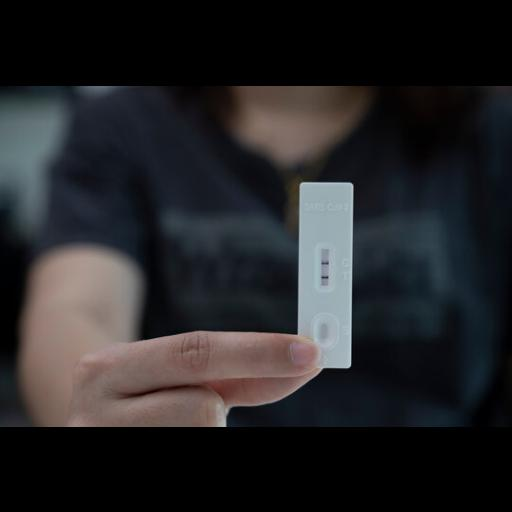Pos: (297, 181, 351, 367)
